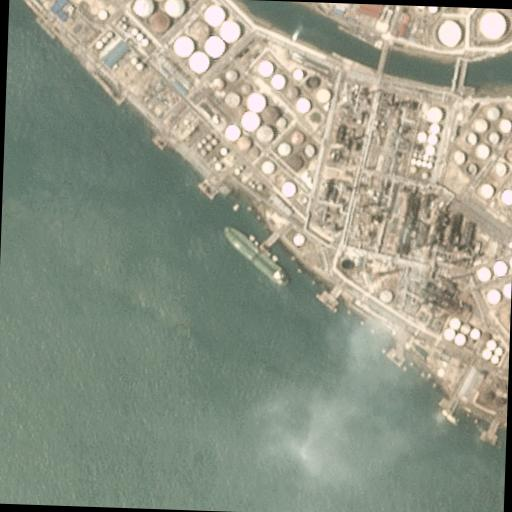ship: (221, 225, 291, 287)
